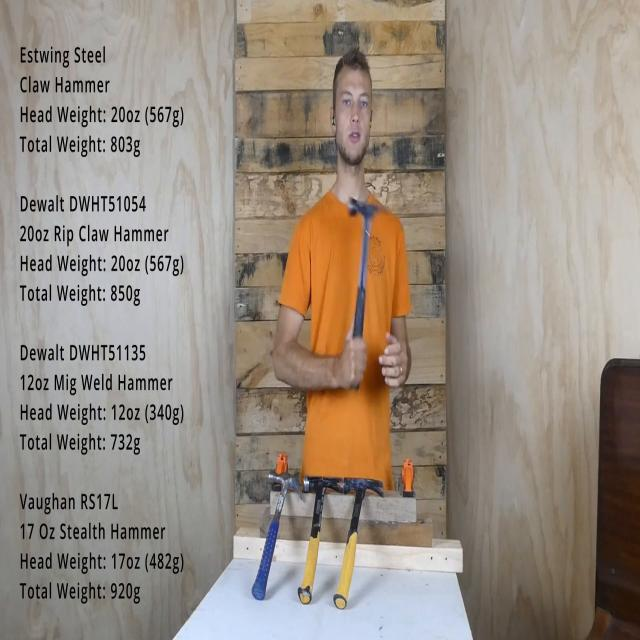hammer: (246, 461, 304, 603), (339, 194, 386, 350), (333, 464, 381, 613), (298, 474, 342, 603)
